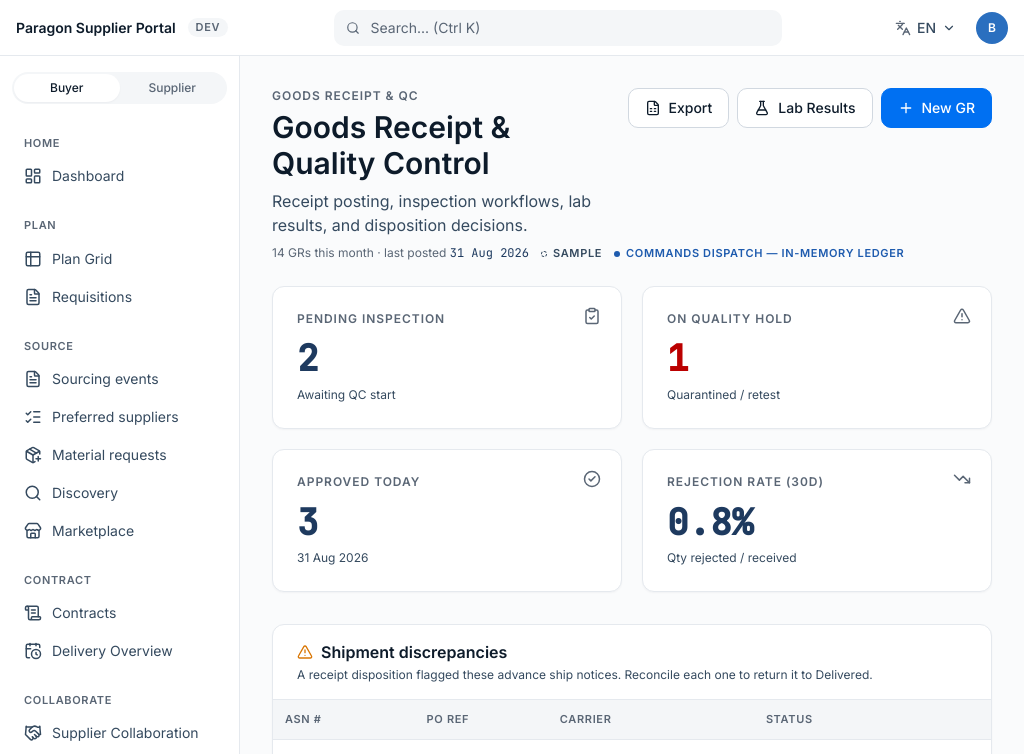
Test: OPS-2 · P0-4 — a receipt that exists is worked from the list › a new receipt opens its received date on the declared present
Expected: the text "Rejection Rate (30d)" is shown, [667,474,824,489]
What coordinates should you click on to do the following:
click the button "New GR"
I would click on:
 (936, 108)
Its box is [880,88,992,128].
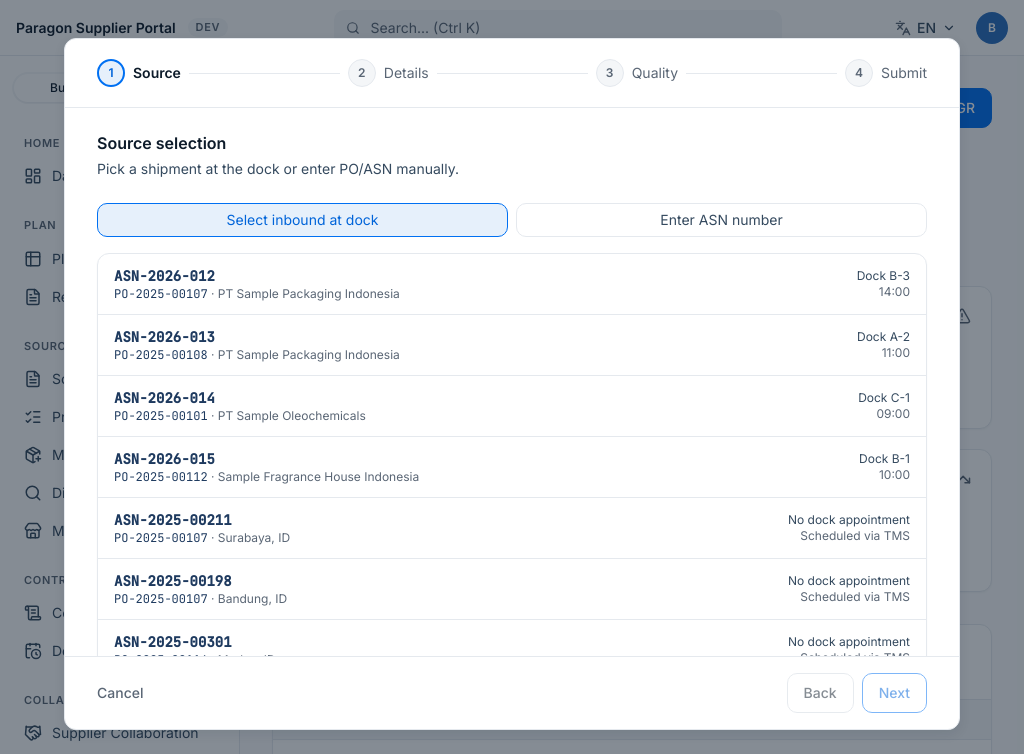
What coordinates should you click on to do the following:
click the text "ASN-2026-012"
I would click on:
 (164, 276)
Its box is [114,267,215,285].
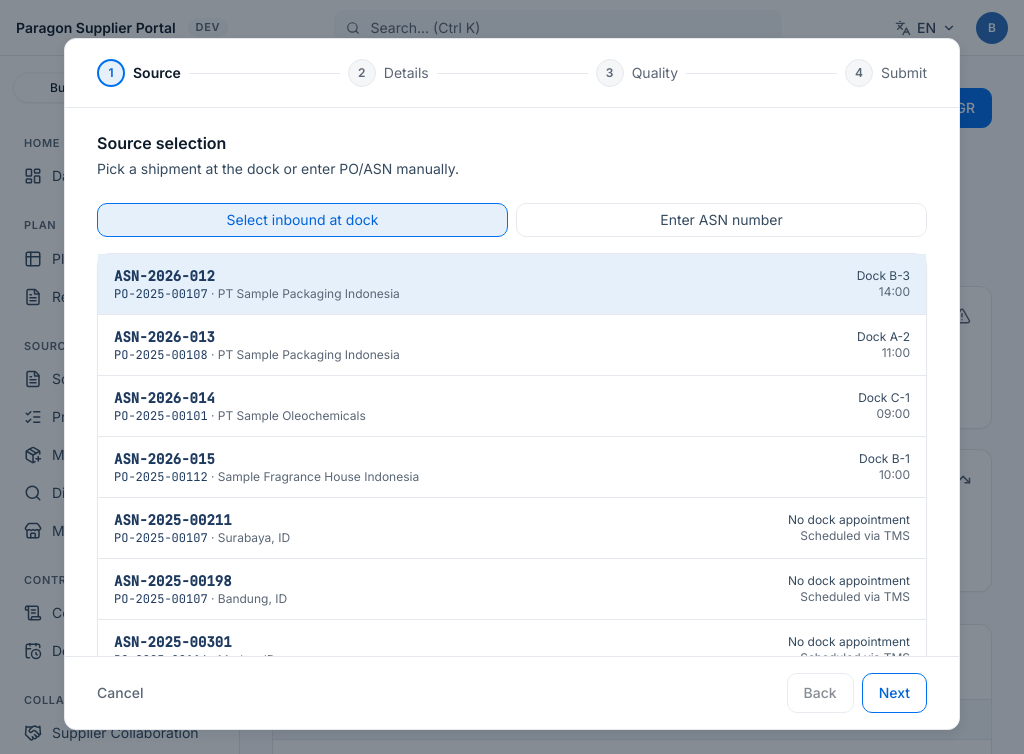
What coordinates should you click on to do the following:
click the button "Next"
I would click on:
 (894, 693)
Its box is [862,673,927,713].
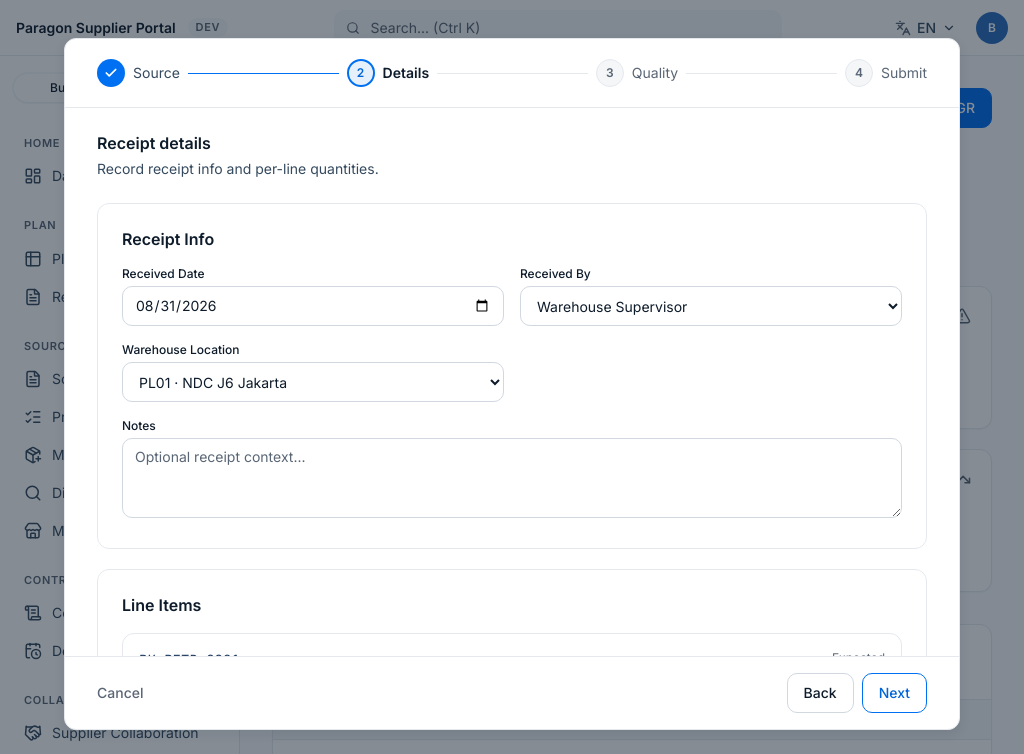
Result: the date field labelled "Received Date" holds "2026-08-31" at [122,286,504,326]
Result: the date field labelled "Received Date" does not hold "2026-05-20" at [122,286,504,326]
Result: the date field labelled "Received Date" is enabled at [122,286,504,326]
